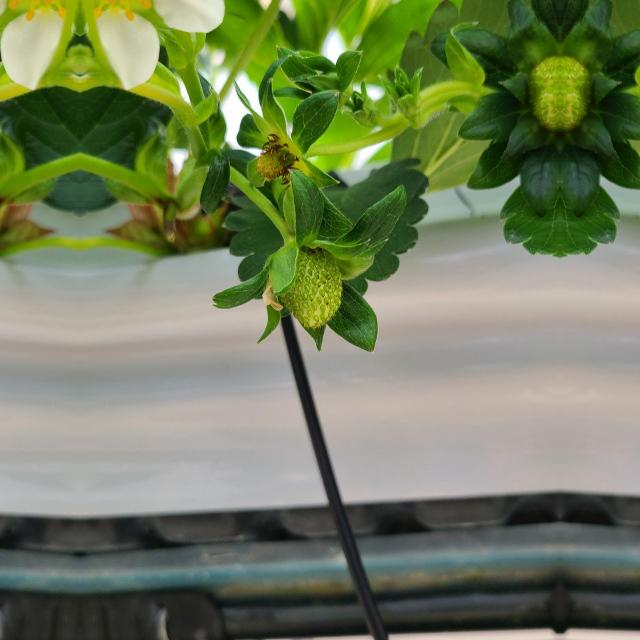Health_25: (282, 247, 342, 327), (515, 49, 559, 134), (561, 49, 605, 134), (254, 137, 302, 197)
